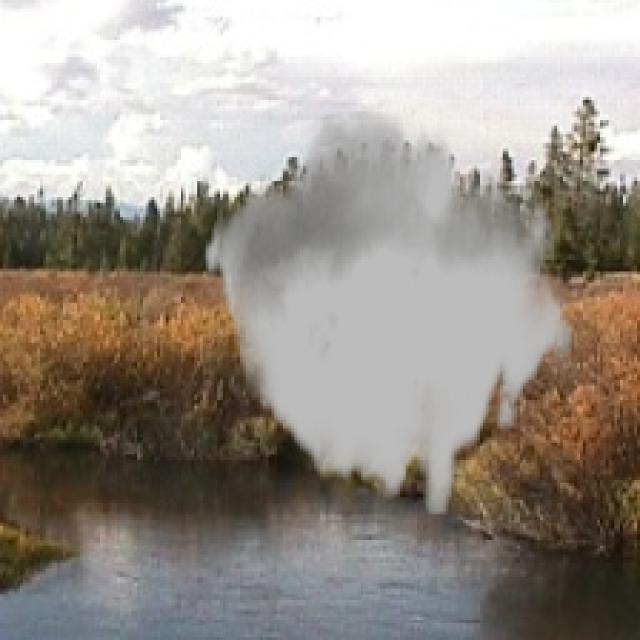smoke: (203, 112, 574, 514)
